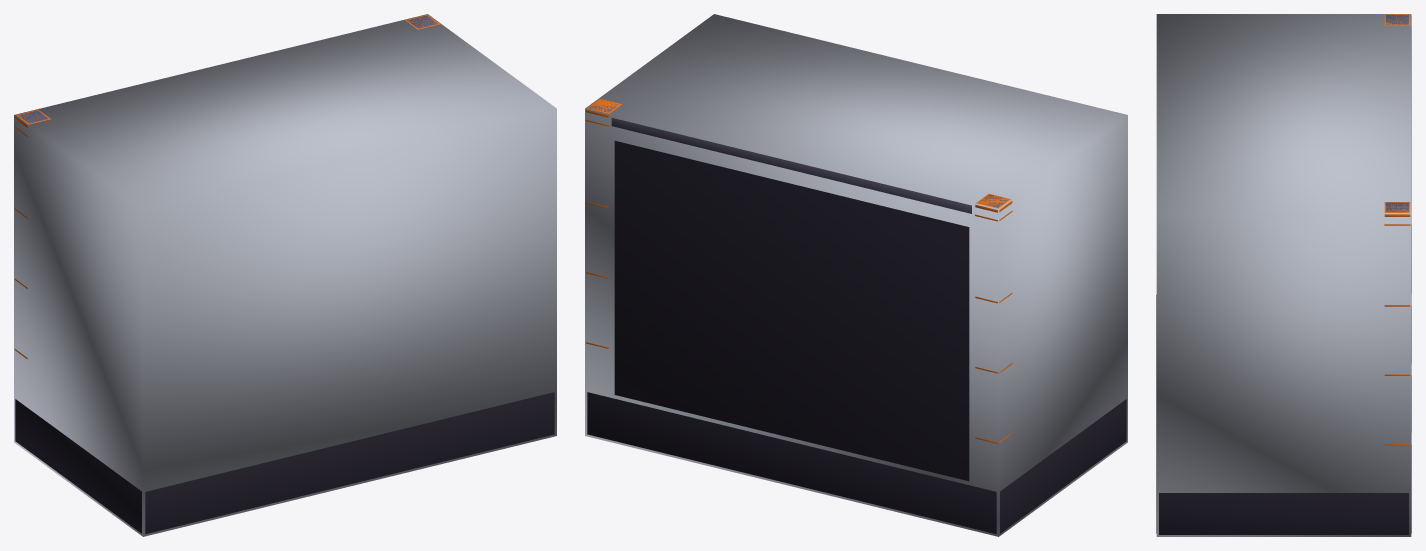
File: Tier_08.fbx
3 views of the same model, side by side, from view 1: azimuth 30°, elevation 25°; view 2: azimuth 150°, elevation 25°; view 3: azimuth 270°, elevation 25° (orthographic).
Visible parts, largest first — view 1: Root, Dark; view 2: Root, Dark, Metal, Orange; view 3: Root, Dark, Metal, Orange.
Boxes of the visible parts, bbox=[...] form: Root: bbox=[14, 14, 556, 536]; Dark: bbox=[15, 392, 554, 534]; Root: bbox=[585, 14, 1127, 536]; Dark: bbox=[587, 141, 1126, 534]; Metal: bbox=[589, 103, 1008, 213]; Orange: bbox=[585, 99, 1012, 221]; Root: bbox=[1156, 14, 1411, 536]; Dark: bbox=[1156, 225, 1411, 534]; Metal: bbox=[1386, 15, 1411, 212]; Orange: bbox=[1384, 14, 1411, 225].
Size of the model in its own units: 74 by 56 by 40.
